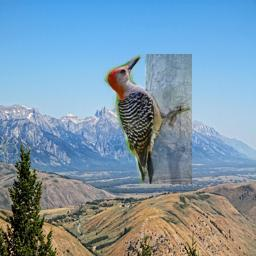Woodpecker: (101, 54, 192, 184)
